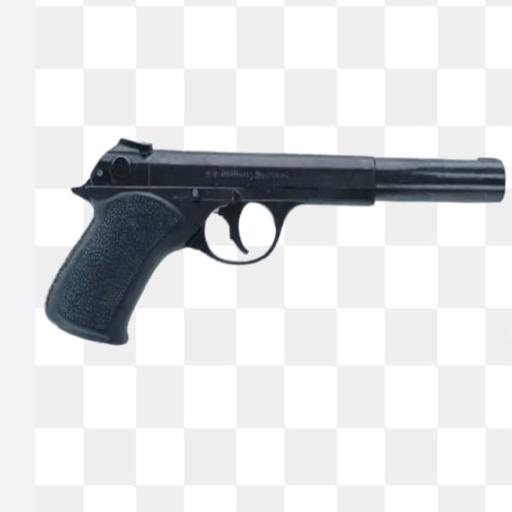Gun: (46, 139, 504, 343)
